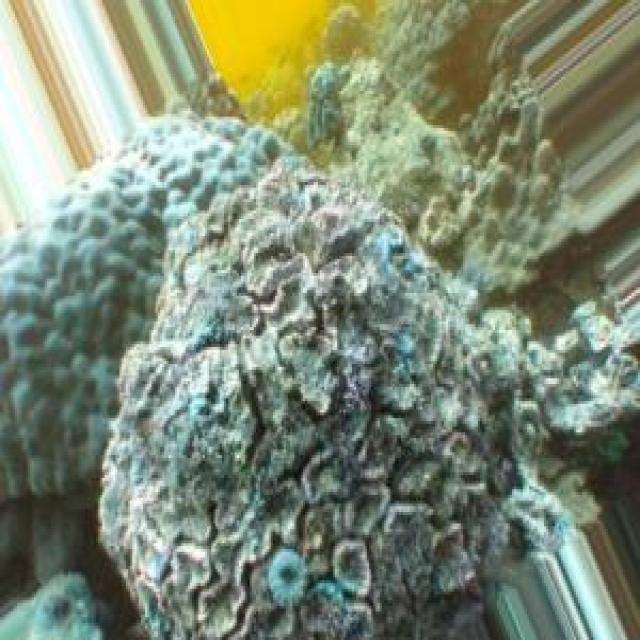Healthy: (1, 120, 575, 640), (1, 123, 285, 502)
